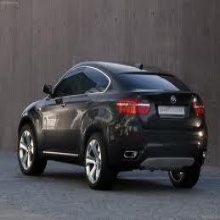no damage: (17, 60, 208, 191)
